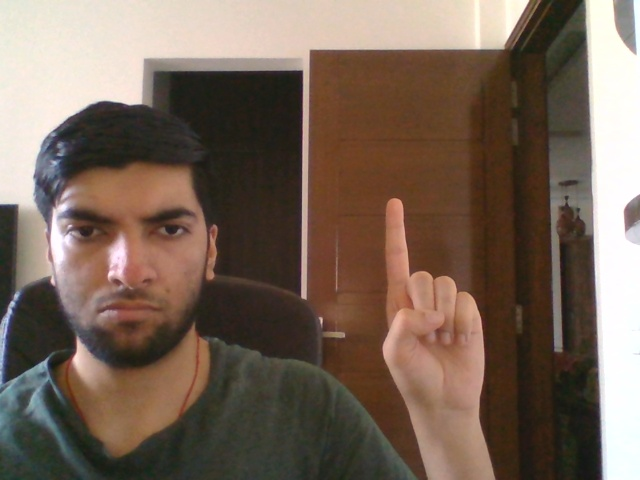LetterD: (382, 197, 486, 422)
